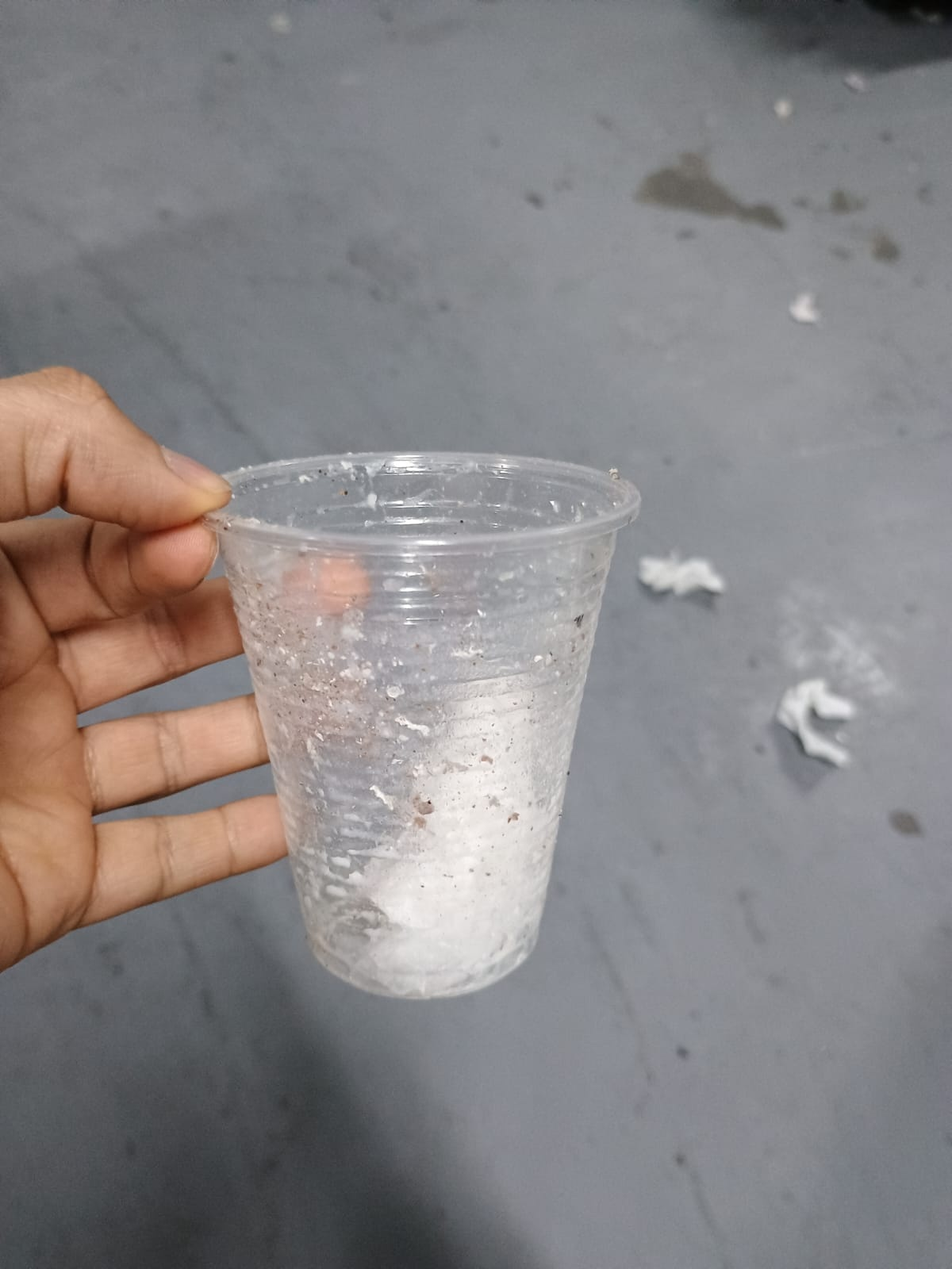Plastico: (205, 450, 646, 1000)
